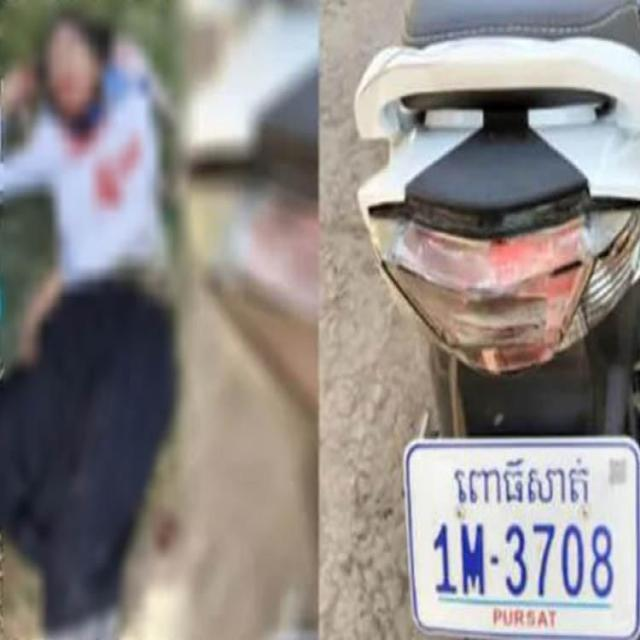Pursat: (454, 458, 589, 509)
